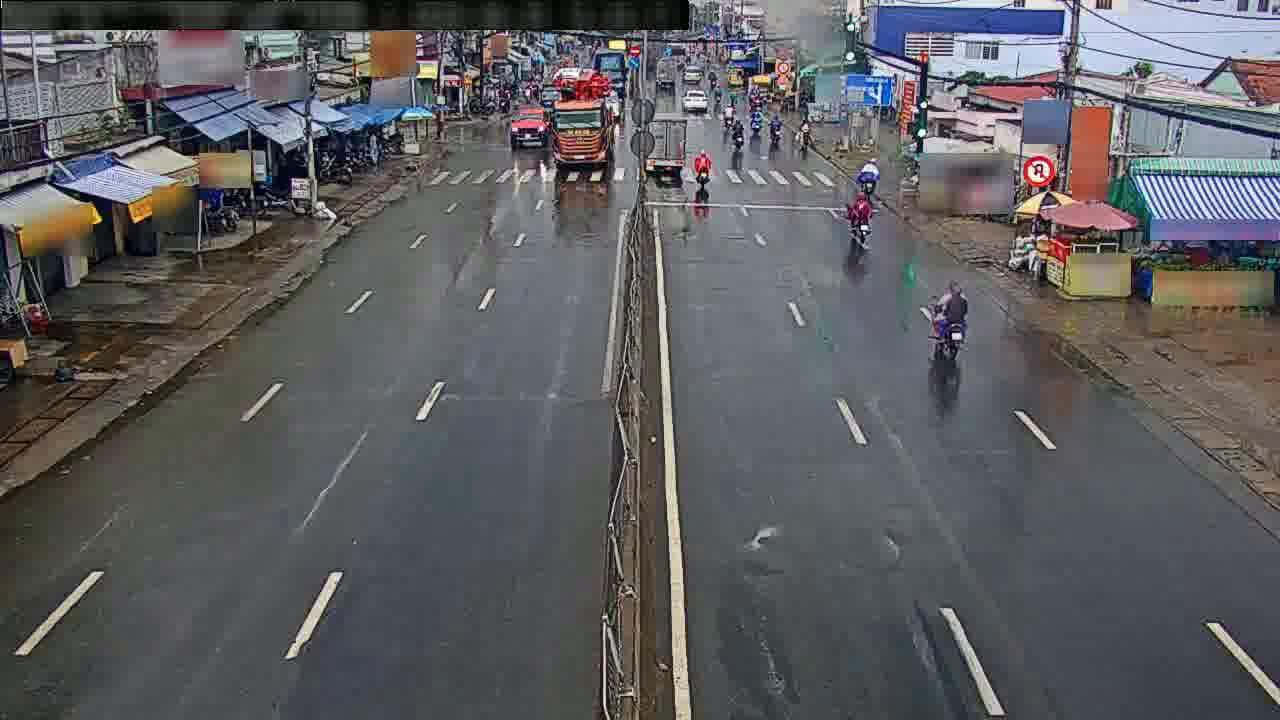8: (557, 96, 612, 174), (644, 105, 689, 174)
container: (509, 104, 554, 147), (678, 87, 712, 116), (679, 66, 702, 86)
motorbike: (931, 279, 970, 357), (844, 193, 874, 242), (857, 160, 885, 190), (691, 153, 714, 184), (729, 113, 748, 145)
